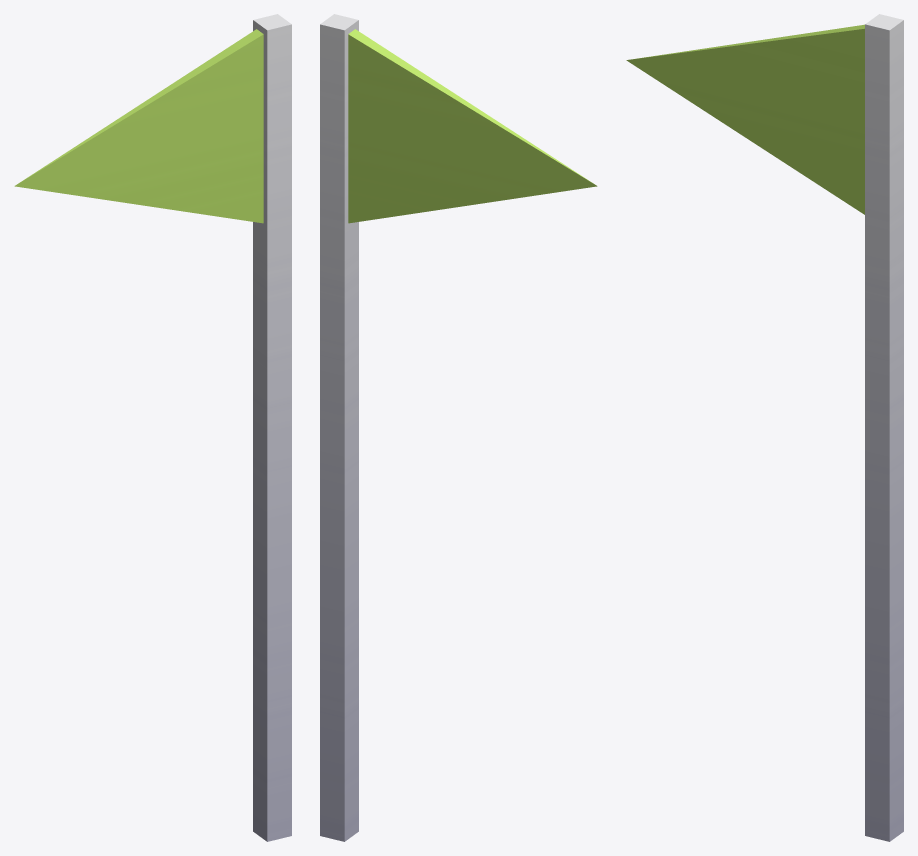
The model's file is flag-green.fbx.
3 views of the same model, side by side, from view 1: azimuth 30°, elevation 25°; view 2: azimuth 150°, elevation 25°; view 3: azimuth 330°, elevation 25° (orthographic).
Visible parts, largest first — view 1: flag_green; view 2: flag_green; view 3: flag_green.
Boxes of the visible parts, x1,y1,x2,y2 form: flag_green: [14, 14, 291, 841]; flag_green: [320, 14, 597, 841]; flag_green: [626, 14, 903, 841].
Bounding box in the file's own units: 36.66 × 105 × 3.33.
